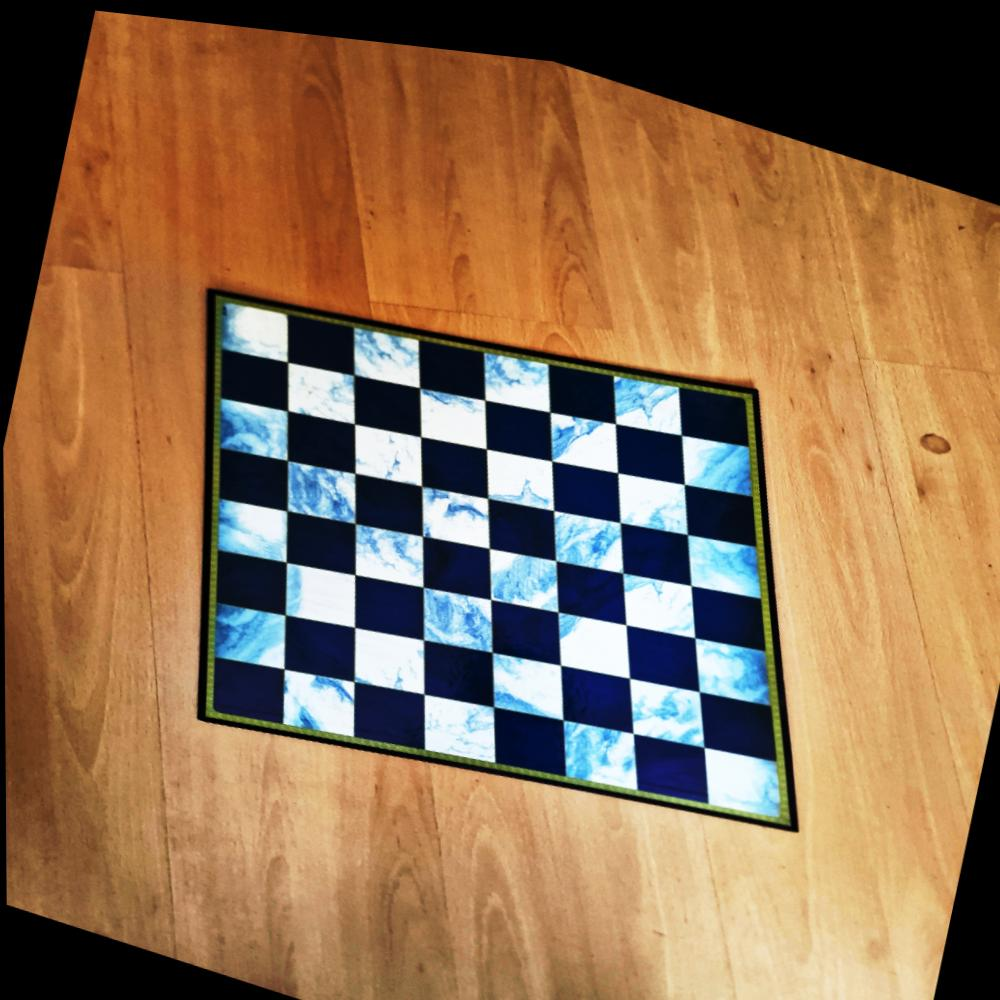chessfield: (687, 723, 790, 814), (609, 651, 707, 737), (676, 612, 773, 697), (548, 700, 643, 786), (409, 673, 502, 758), (400, 565, 495, 648), (268, 546, 360, 630), (672, 509, 766, 591), (338, 613, 429, 697), (609, 549, 701, 632), (538, 639, 631, 721), (607, 601, 701, 682), (685, 670, 779, 751), (265, 444, 359, 525), (476, 631, 567, 714), (265, 600, 357, 682), (620, 712, 713, 793), (478, 687, 570, 768), (332, 506, 422, 588), (203, 286, 294, 367), (204, 590, 291, 674), (538, 589, 627, 671), (265, 650, 354, 732), (474, 532, 563, 613), (338, 665, 427, 746), (340, 557, 428, 638), (406, 625, 494, 706), (404, 466, 494, 545), (199, 482, 286, 563), (334, 407, 422, 487), (603, 448, 691, 528), (667, 409, 756, 488), (271, 345, 360, 424), (477, 580, 567, 658), (673, 558, 760, 637), (202, 382, 290, 460), (338, 308, 426, 386), (470, 331, 556, 410), (605, 354, 691, 433), (472, 431, 560, 508), (610, 500, 697, 577), (273, 498, 360, 575), (544, 541, 632, 617), (204, 537, 289, 615), (541, 489, 626, 567), (201, 646, 286, 724), (407, 368, 493, 445), (669, 360, 755, 437), (407, 520, 494, 596), (674, 462, 761, 537), (342, 458, 427, 534), (473, 382, 558, 458), (605, 400, 689, 476), (540, 442, 624, 518), (475, 478, 560, 553), (538, 344, 622, 419), (205, 435, 289, 510), (409, 322, 493, 397), (272, 397, 357, 471), (338, 360, 424, 433), (408, 421, 494, 494), (276, 299, 360, 373), (540, 390, 621, 466), (211, 337, 291, 408)
